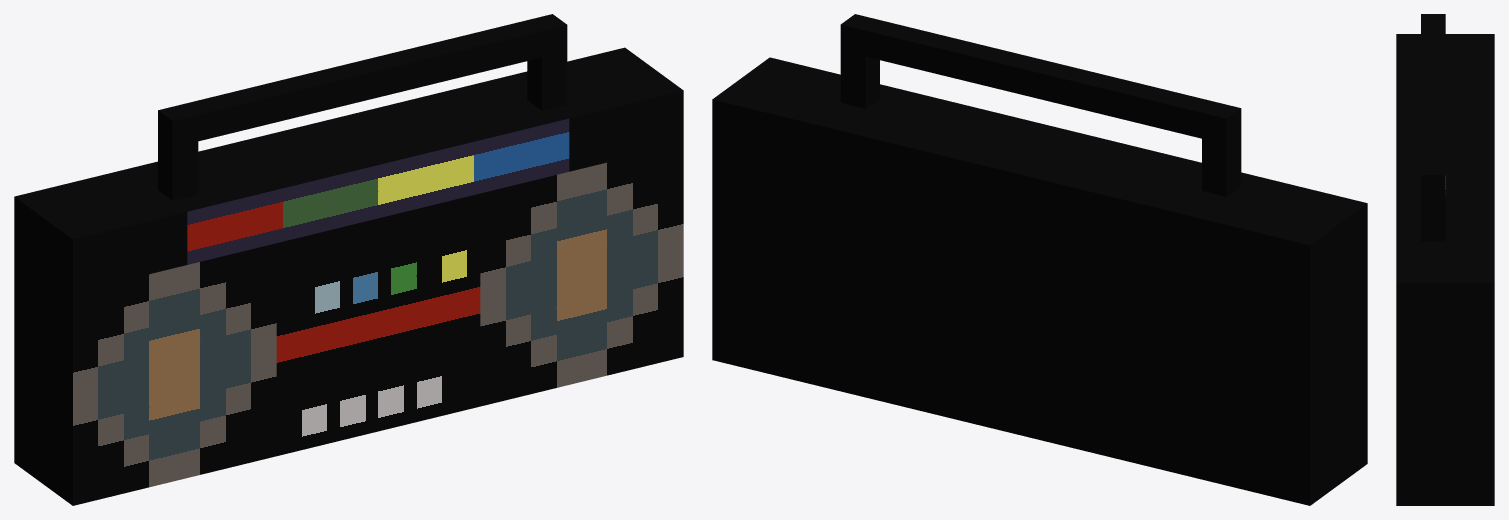
File: BoomBox.gltf
The picture shows the model from 3 angles, left to right: view 1: azimuth 30°, elevation 25°; view 2: azimuth 150°, elevation 25°; view 3: azimuth 270°, elevation 25°; orthographic projection. The views are drawn at different scales.
Bounding box in the file's own units: 3 × 1.62 × 0.5.
Materials: 1 (1 with a texture image).
